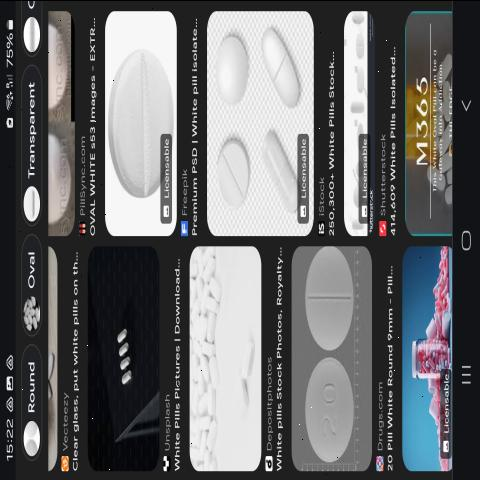Pill: (103, 47, 168, 202), (294, 360, 366, 464), (300, 242, 360, 360), (252, 20, 306, 118), (257, 120, 309, 206), (214, 16, 252, 118), (216, 126, 252, 218)
